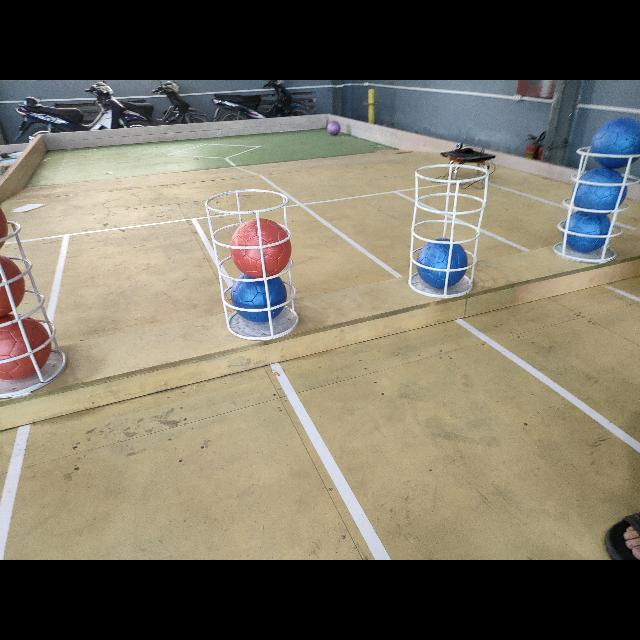B: (572, 168, 626, 218), (229, 273, 287, 319), (590, 114, 640, 166), (417, 238, 467, 288), (566, 210, 608, 250)
R: (231, 218, 291, 276), (0, 321, 48, 381), (1, 253, 26, 319), (0, 202, 10, 248)
